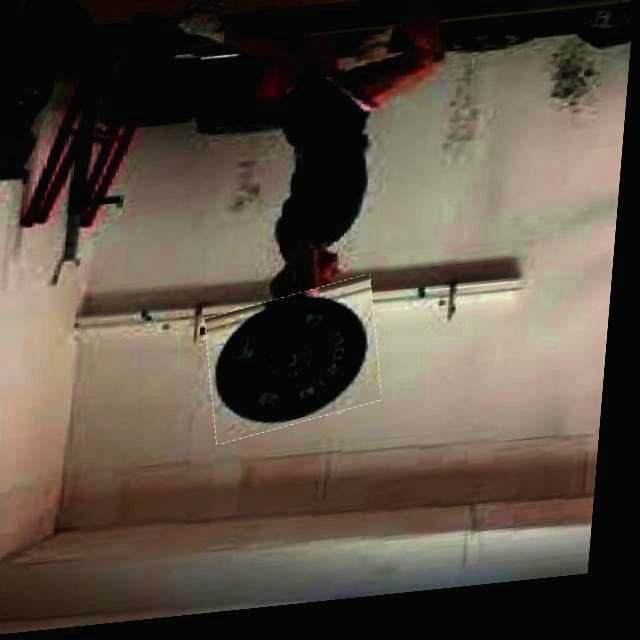barbell: (207, 288, 392, 445)
